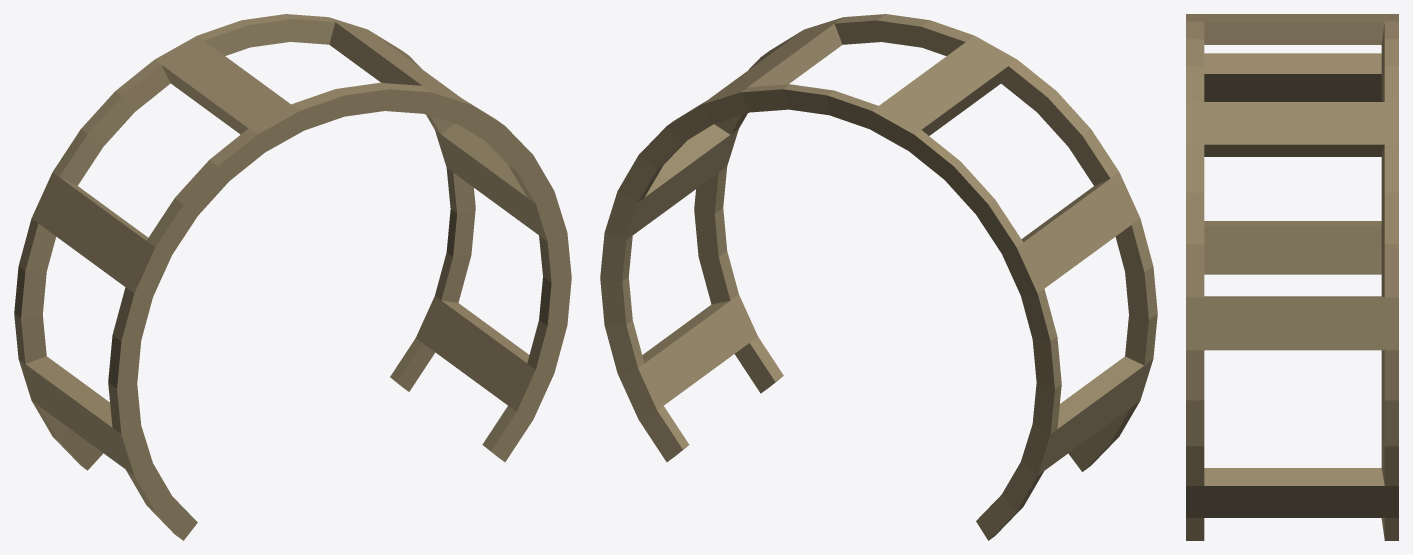
Rendered from archpoort.fbx.
3 renders of one model, left to right at view 1: azimuth 30°, elevation 25°; view 2: azimuth 150°, elevation 25°; view 3: azimuth 270°, elevation 25°, orthographic. The views are drawn at different scales.
Visible parts, largest first — view 1: Cylinder; view 2: Cylinder; view 3: Cylinder.
Boxes of the visible parts, x1,y1,x2,y2 form: Cylinder: [14, 14, 571, 540]; Cylinder: [600, 14, 1157, 540]; Cylinder: [1186, 14, 1398, 540].
Size of the model in its own units: 200 by 171 by 78.34.
